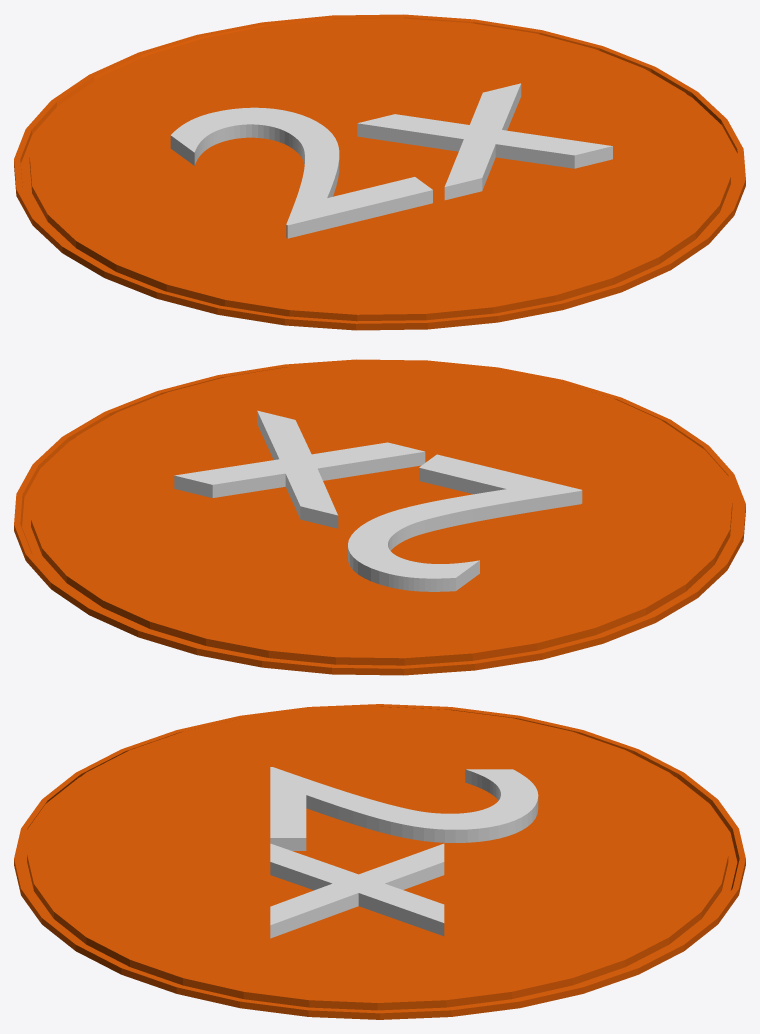
Rendered from DoubleDown.fbx.
3 views of the same model, one above another, from view 1: azimuth 30°, elevation 25°; view 2: azimuth 150°, elevation 25°; view 3: azimuth 270°, elevation 25° (orthographic).
Parts seen in each view (by area): view 1: Cylinder, Text; view 2: Cylinder, Text; view 3: Cylinder, Text.
Part boxes in pixels (x1,y1,x2,y2): Cylinder: (14, 14, 745, 330); Text: (170, 83, 612, 238); Cylinder: (14, 359, 745, 675); Text: (174, 410, 582, 591); Cylinder: (14, 704, 745, 1019); Text: (270, 767, 538, 938).
Size of the model in its own units: 200 by 8 by 200.
